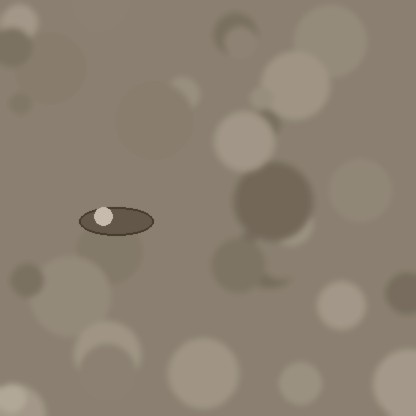gota: (79, 208, 153, 238)
